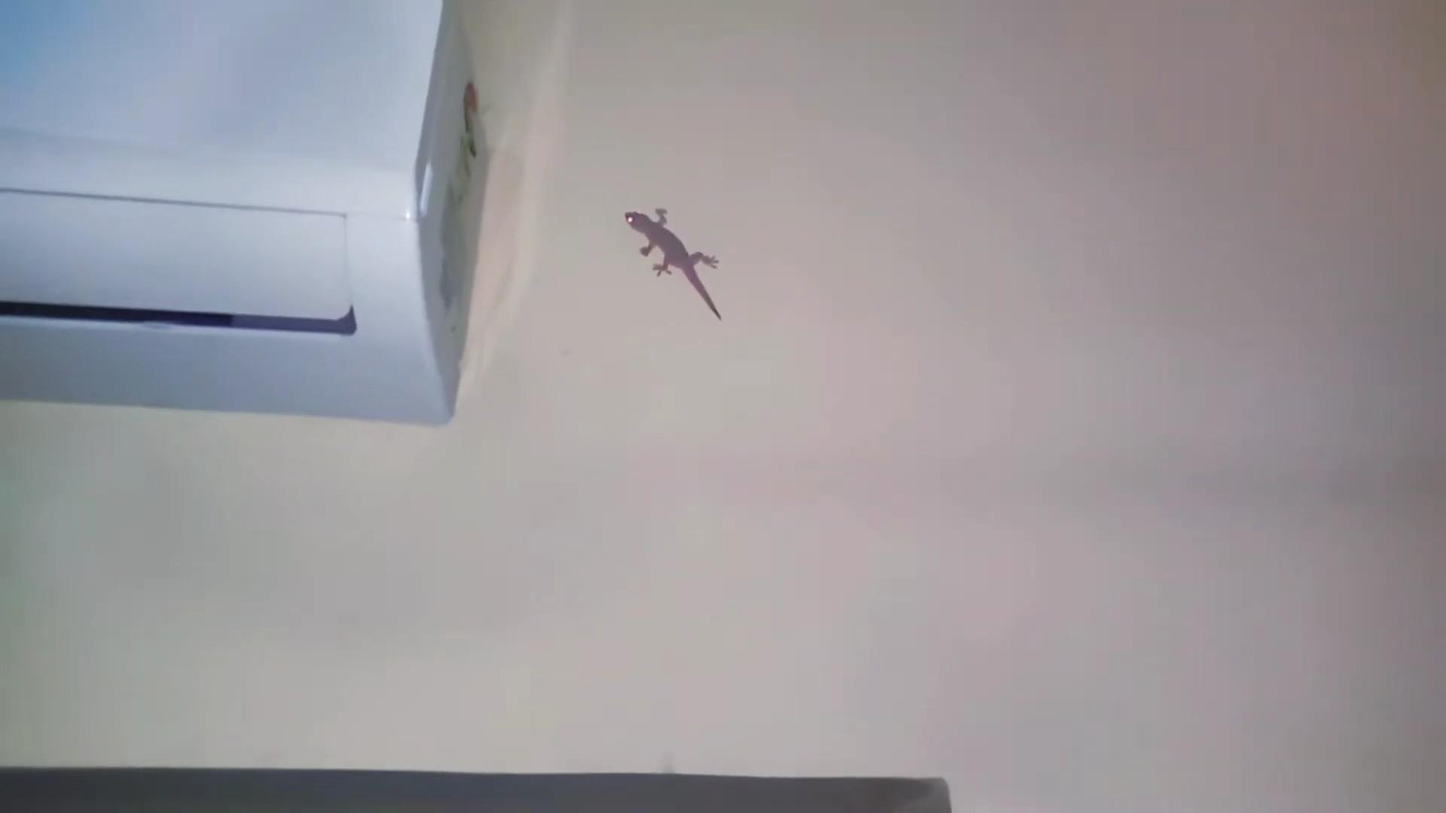lizard: (614, 196, 737, 322)
